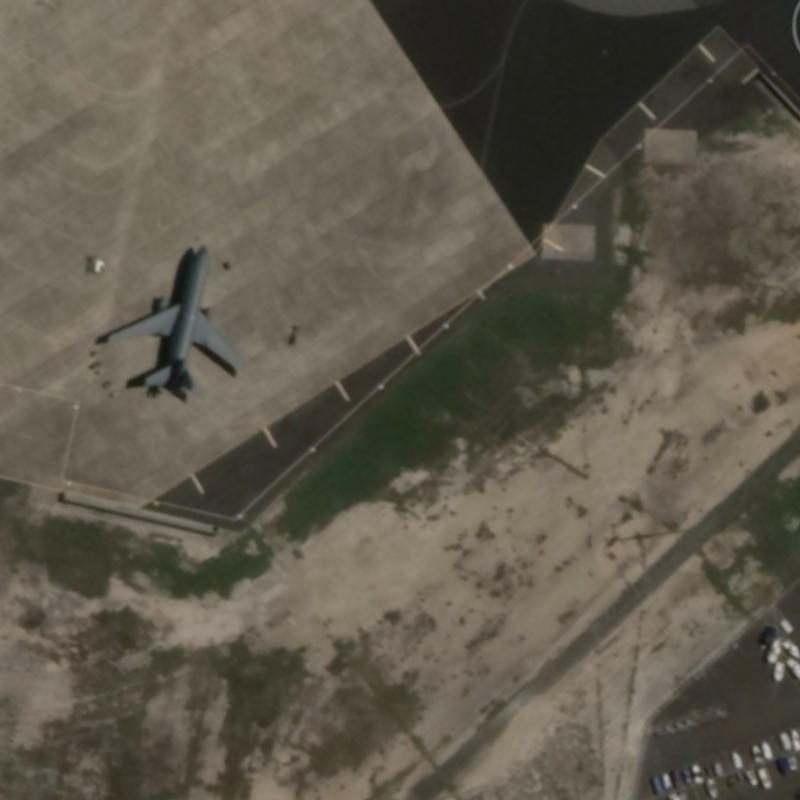A18: (93, 241, 248, 406)
